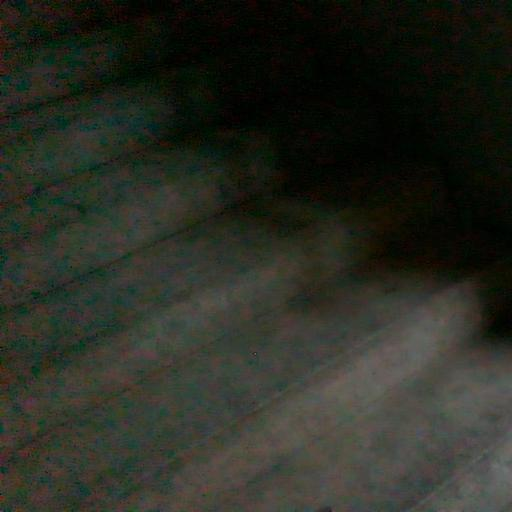stairs: (0, 9, 511, 511)
